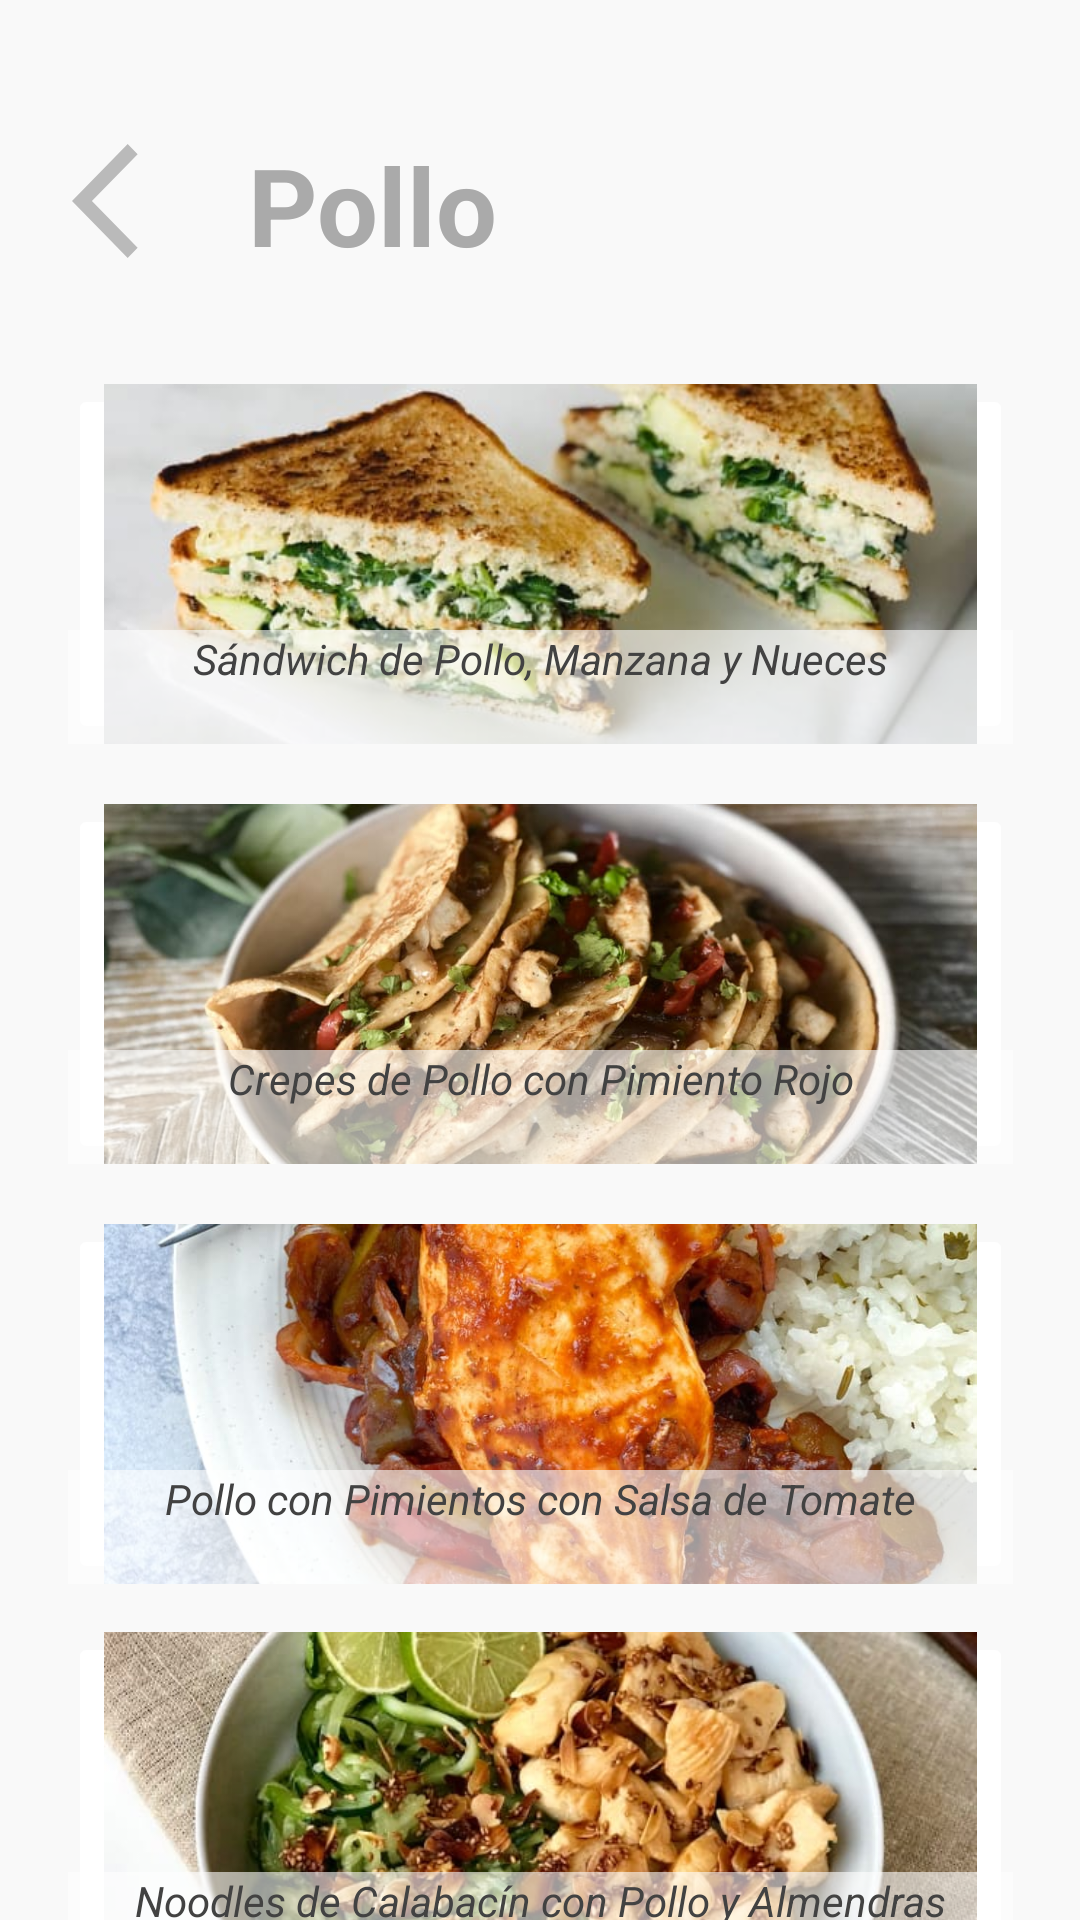

Named icons in this screenshot (1080x1920) and their bounding boxes, rect(x1, y1, x2, y2):
flecha: rect(72, 144, 137, 258)
